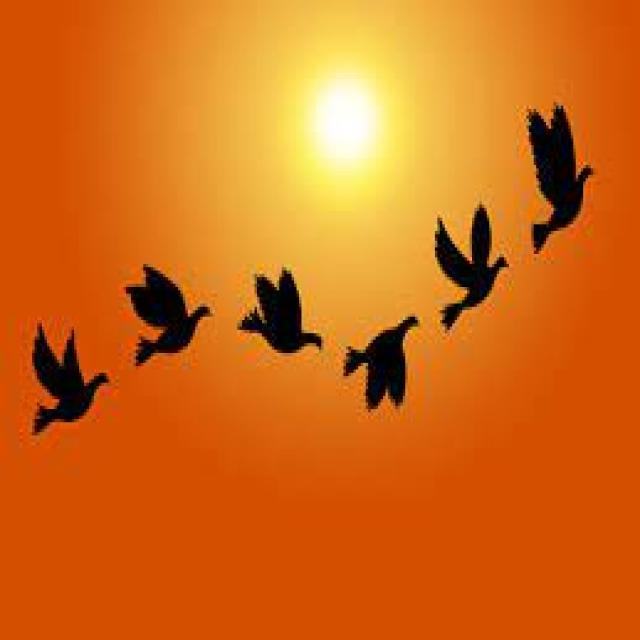bird: (112, 213, 234, 394), (511, 95, 624, 284), (11, 294, 118, 452), (421, 198, 523, 363), (225, 248, 332, 396), (334, 288, 436, 434)
